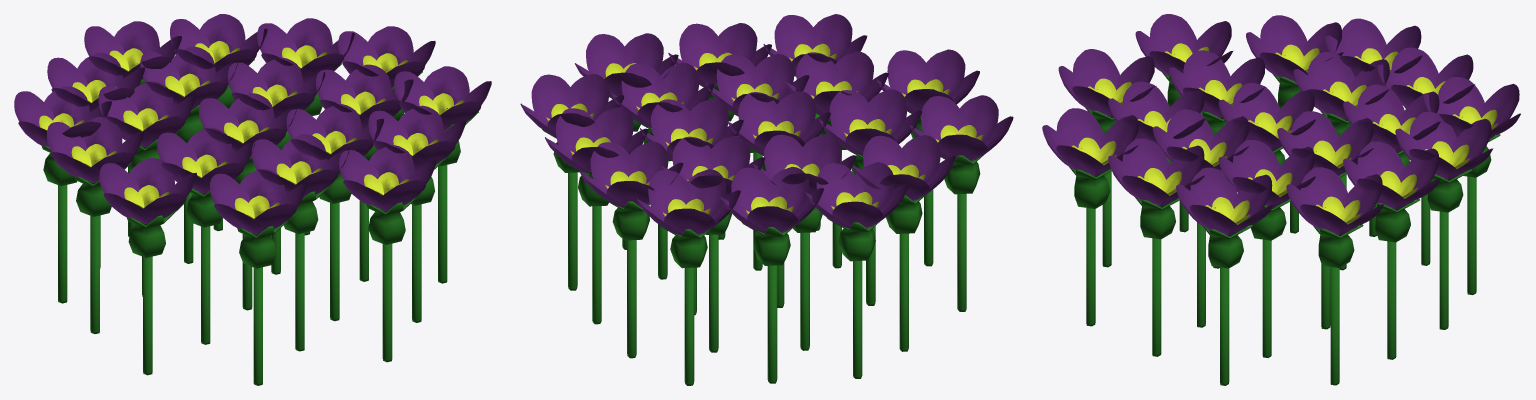
The model's file is flor .fbx.
3 renders of one model, left to right at view 1: azimuth 30°, elevation 25°; view 2: azimuth 150°, elevation 25°; view 3: azimuth 270°, elevation 25°, orthographic.
Visible parts, largest first — view 1: FLORPENSAMIENTO.175; view 2: FLORPENSAMIENTO.175; view 3: FLORPENSAMIENTO.175.
Part boxes in pixels (x1,y1,x2,y2): FLORPENSAMIENTO.175: [14, 14, 491, 385]; FLORPENSAMIENTO.175: [520, 14, 1013, 385]; FLORPENSAMIENTO.175: [1042, 14, 1520, 385].
Size of the model in its own units: 68.96 by 32.49 by 71.44.
